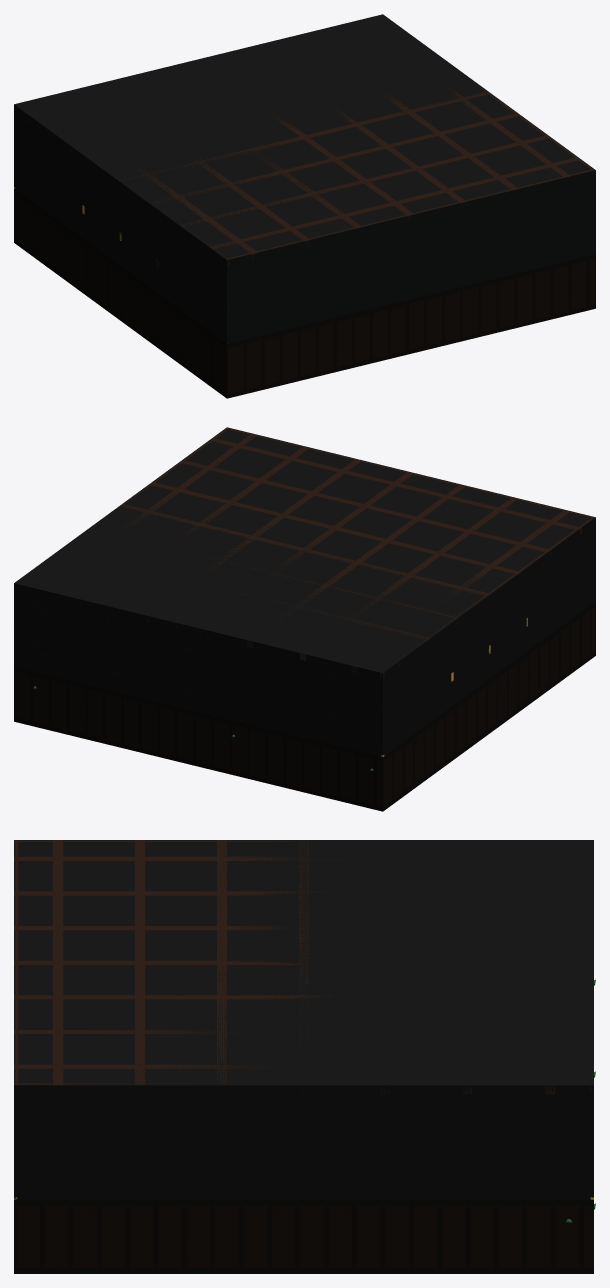
The model's file is room.glb.
3 views of the same model, one above another, from view 1: azimuth 30°, elevation 25°; view 2: azimuth 150°, elevation 25°; view 3: azimuth 270°, elevation 25° (orthographic). The views are drawn at different scales.
Visible parts, largest first — view 1: Room; view 2: Room; view 3: Room.
Part boxes in pixels (x1=…): Room: x1=14, y1=14, x2=595, y2=398; Room: x1=14, y1=427, x2=595, y2=811; Room: x1=14, y1=840, x2=595, y2=1273.
Size of the model in its own units: 9.25 by 3.3 by 9.23.
21 materials, 5 textured.
